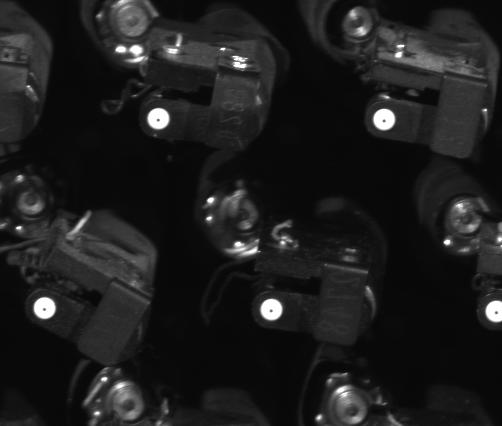fiber: (258, 294, 289, 327), (28, 294, 62, 322), (368, 107, 403, 134), (144, 102, 174, 132), (478, 296, 502, 327)
